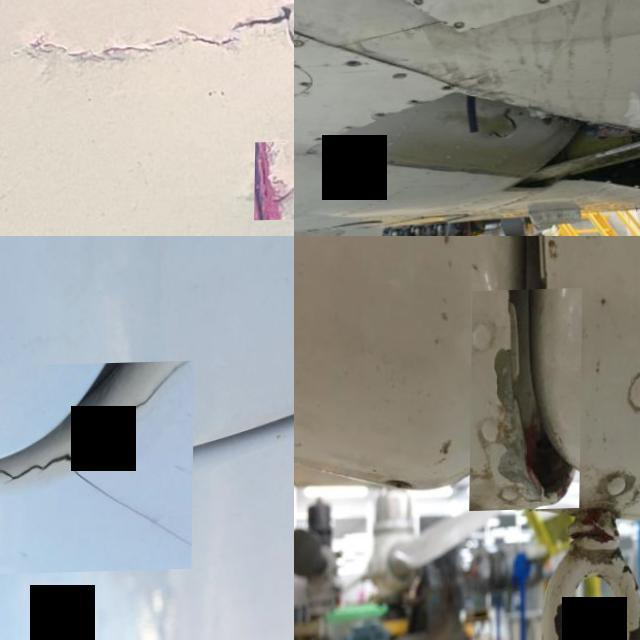Crack: (0, 364, 195, 580), (4, 0, 294, 92), (470, 290, 583, 512), (255, 142, 294, 222)
Missing_Fastener: (451, 21, 468, 33), (533, 0, 554, 8), (410, 0, 429, 8), (409, 98, 422, 108), (346, 60, 362, 68), (441, 87, 457, 95), (374, 114, 388, 120), (314, 137, 325, 143)
